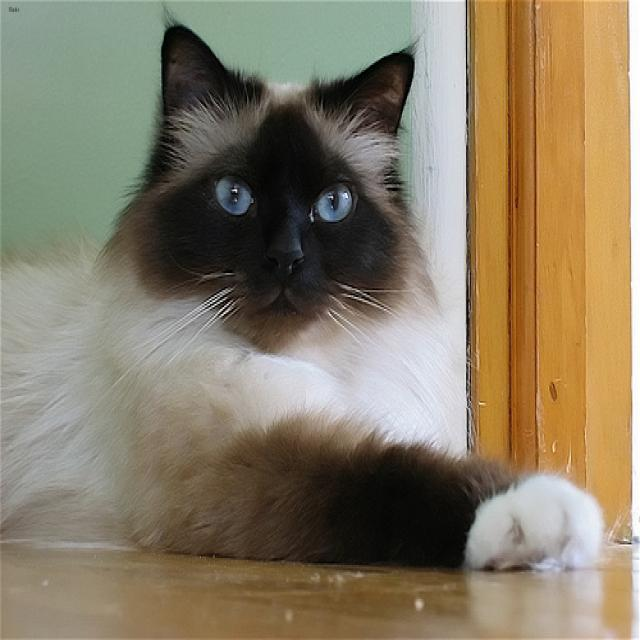Birman: (102, 16, 442, 399)
